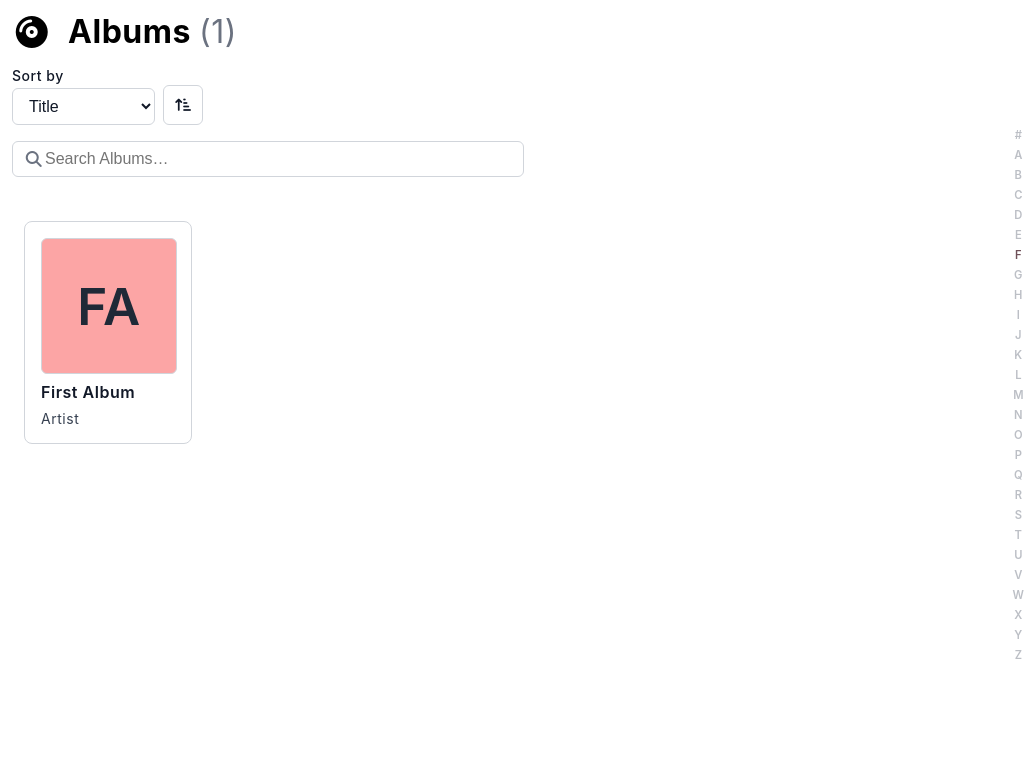
AlbumsView › debounces search and resets the list
Step 1. Type "query" into the search field with placeholder "Search Albums…" → (268, 159), box [12,141,524,177]
Wait 300 ms
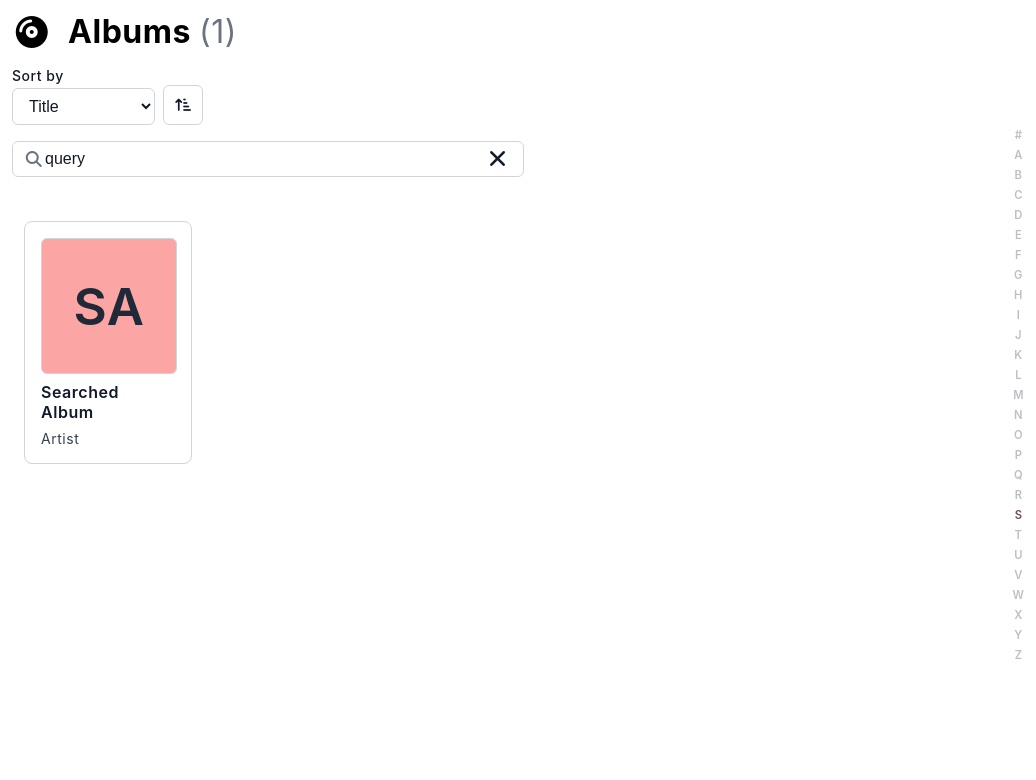
Expected: the text "Searched Album" is shown, [41,382,119,422]
Expected: the text "First Album" is gone
